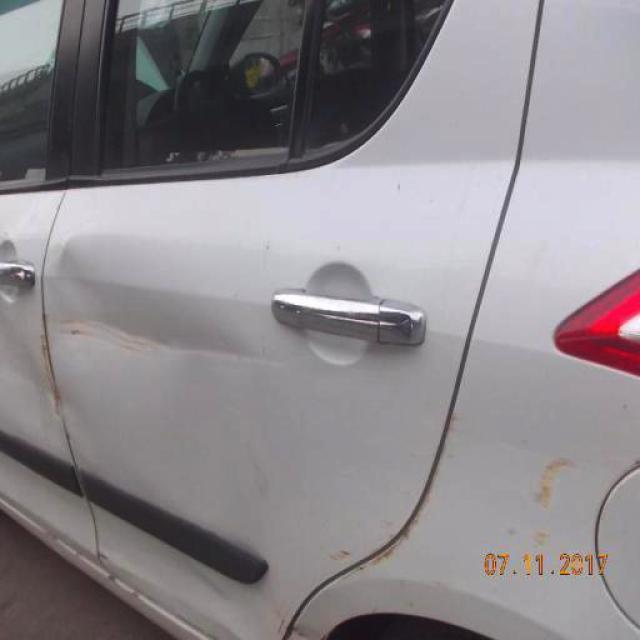car damage: (48, 233, 262, 361), (0, 326, 72, 435), (511, 453, 569, 548)
